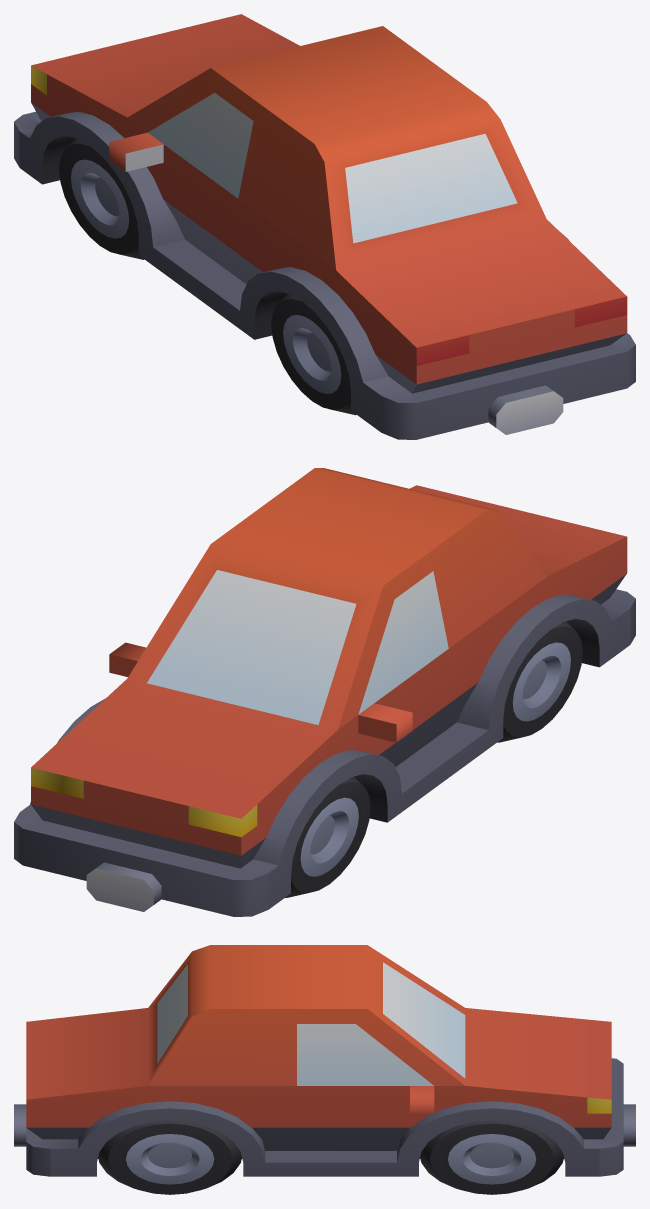
The model's file is kenney-saloon.glb.
3 views of the same model, one above another, from view 1: azimuth 30°, elevation 25°; view 2: azimuth 150°, elevation 25°; view 3: azimuth 270°, elevation 25° (orthographic). The views are drawn at different scales.
Visible parts, largest first — view 1: body, wheel-front-left, wheel-back-left; view 2: body, wheel-back-left, wheel-front-left; view 3: body, wheel-front-right, wheel-back-right.
Boxes of the visible parts, x1=… form: body: x1=14, y1=14, x2=635, y2=439; wheel-front-left: x1=59, y1=138, x2=144, y2=259; wheel-back-left: x1=271, y1=293, x2=356, y2=415; body: x1=14, y1=468, x2=635, y2=916; wheel-back-left: x1=497, y1=621, x2=582, y2=742; wheel-front-left: x1=285, y1=776, x2=370, y2=897; body: x1=14, y1=945, x2=635, y2=1176; wheel-front-right: x1=420, y1=1121, x2=563, y2=1194; wheel-back-right: x1=98, y1=1121, x2=241, y2=1194.
Bounding box in the file's own units: 1.82 × 1.45 × 4.5.
